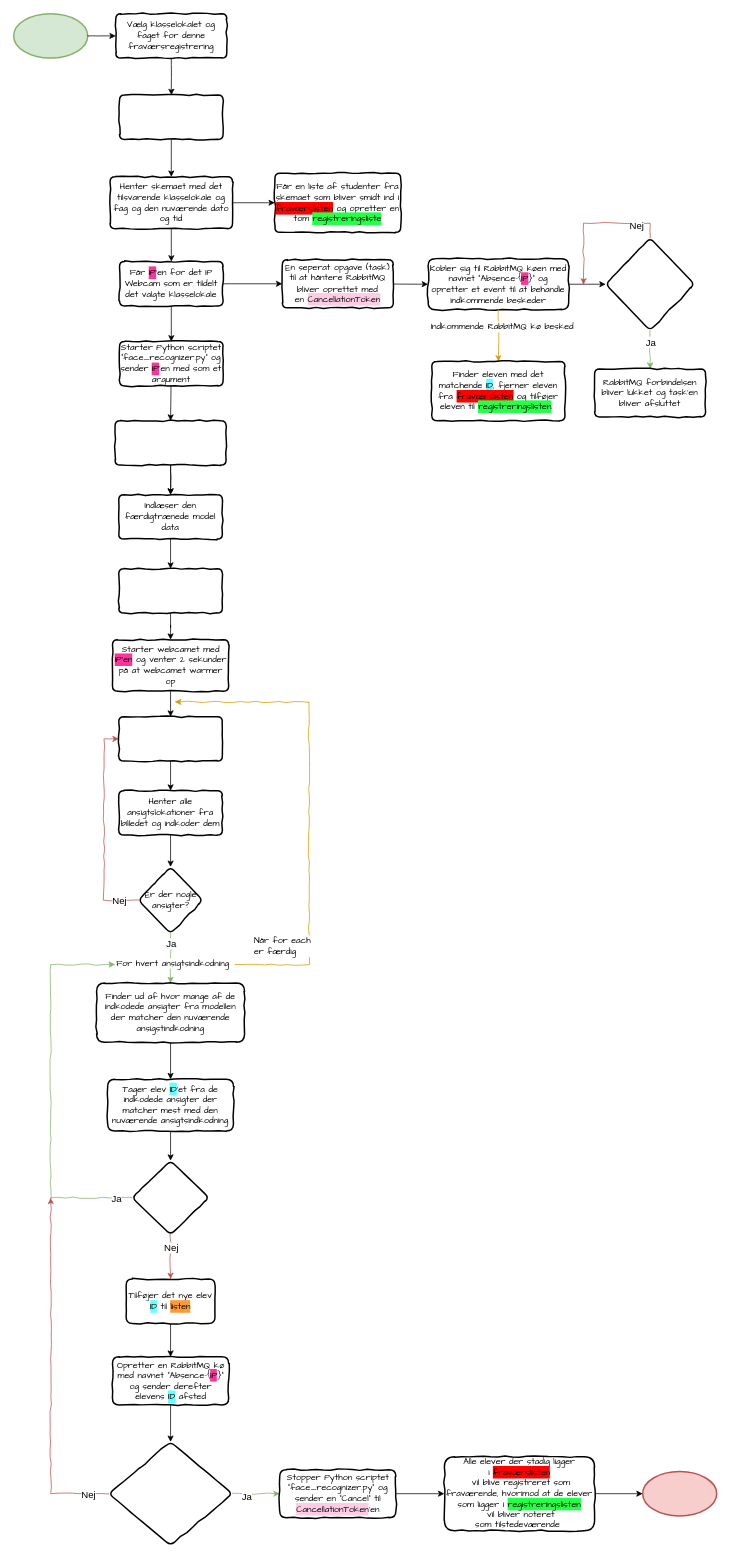
Some shapes in this 730 by 1558 pixel diagram are drawn without their labels. Each missing label, with the box of its shape:
Eksistere ID 'et allerede i listen ?: (131, 1160, 209, 1235)
Er CancellationToken blevet cancelled?: (605, 237, 695, 331)
Er der blevet trykket på "Stop Fraværsregistrering": (108, 1441, 233, 1546)
Initialisere en ny liste af eksisterende ID'er: (118, 568, 223, 613)
Klik på knappen "Start Fraværsregistrering": (118, 94, 223, 140)
Læser billedet fra webcamet: (118, 716, 223, 761)
Python scriptet modtager start kommandoen og IP 'en som et argument: (114, 420, 226, 465)
Slut: (642, 1470, 717, 1516)
Start: (13, 13, 88, 58)
